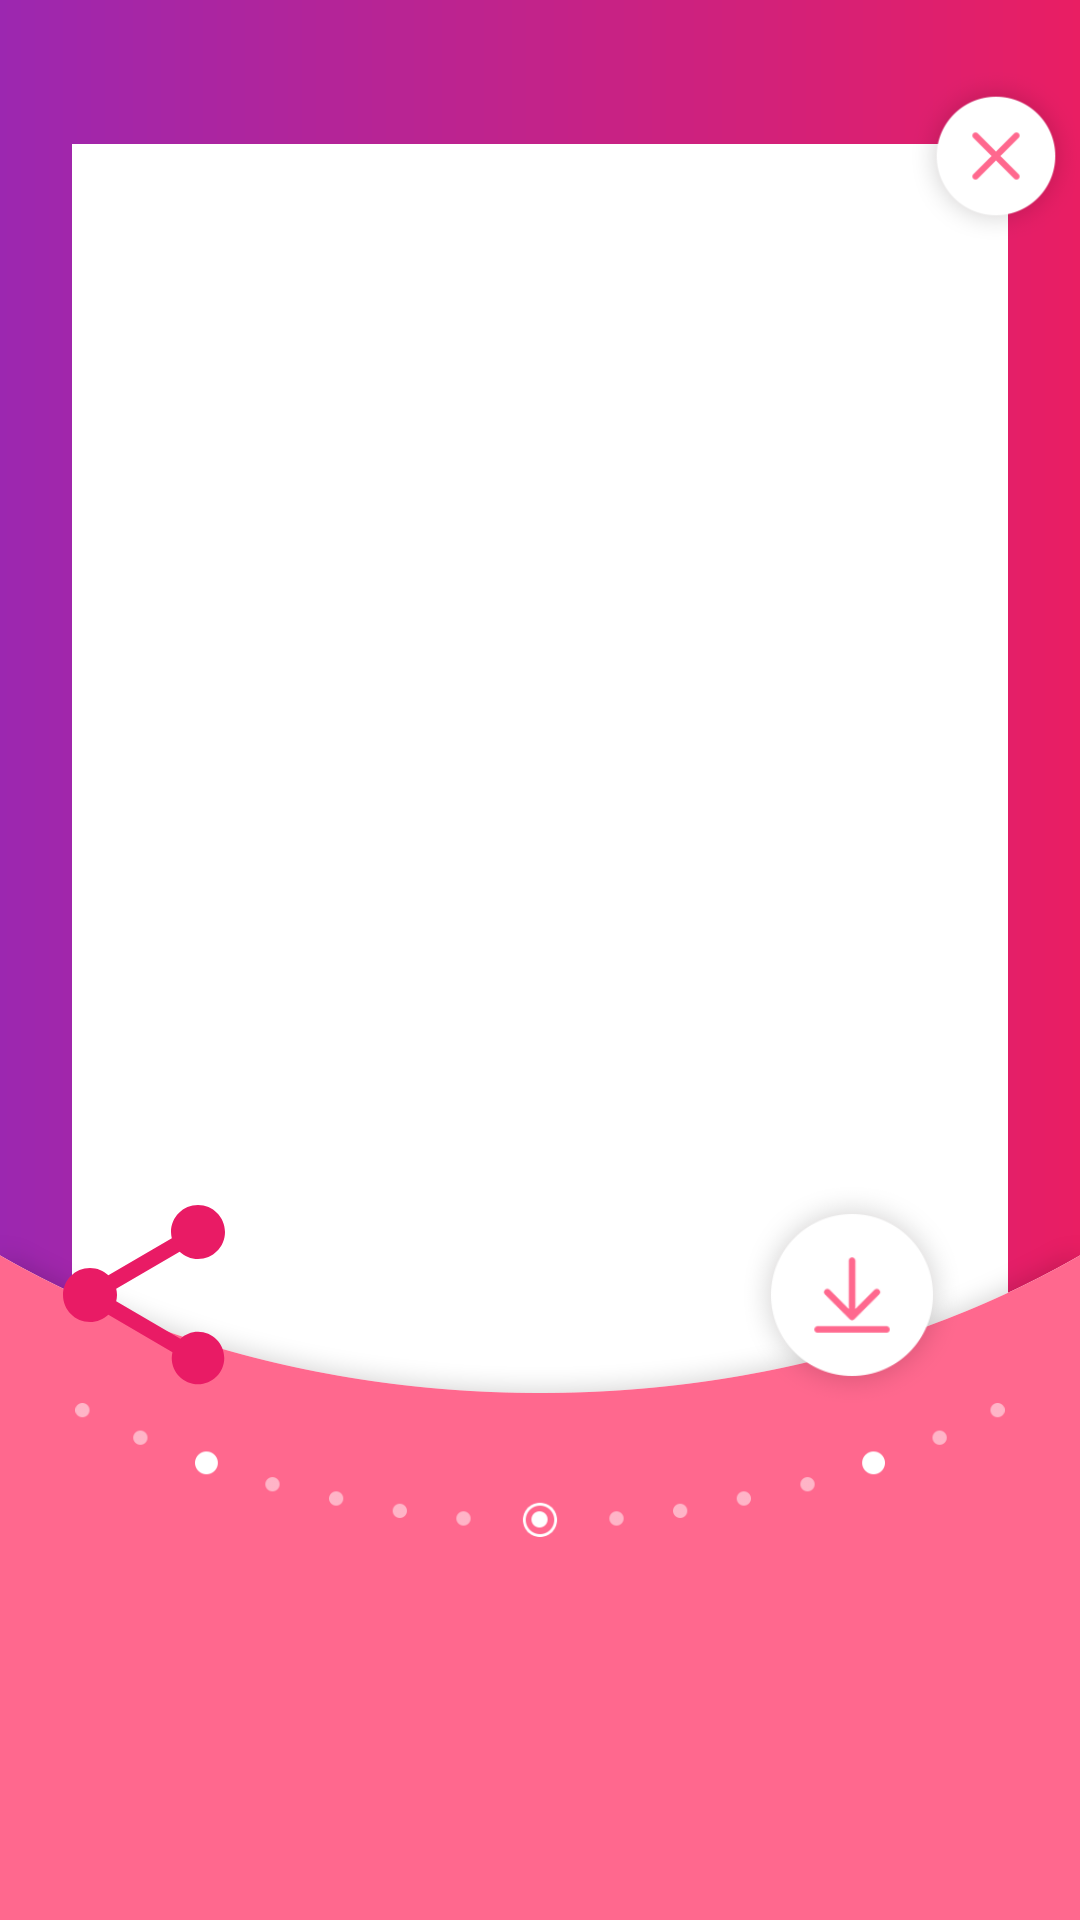

Where to tap for icons on this 1080×1920 app screen, as [x,y]:
close: [996,156]
save: [852,1330]
share: [144,1295]
